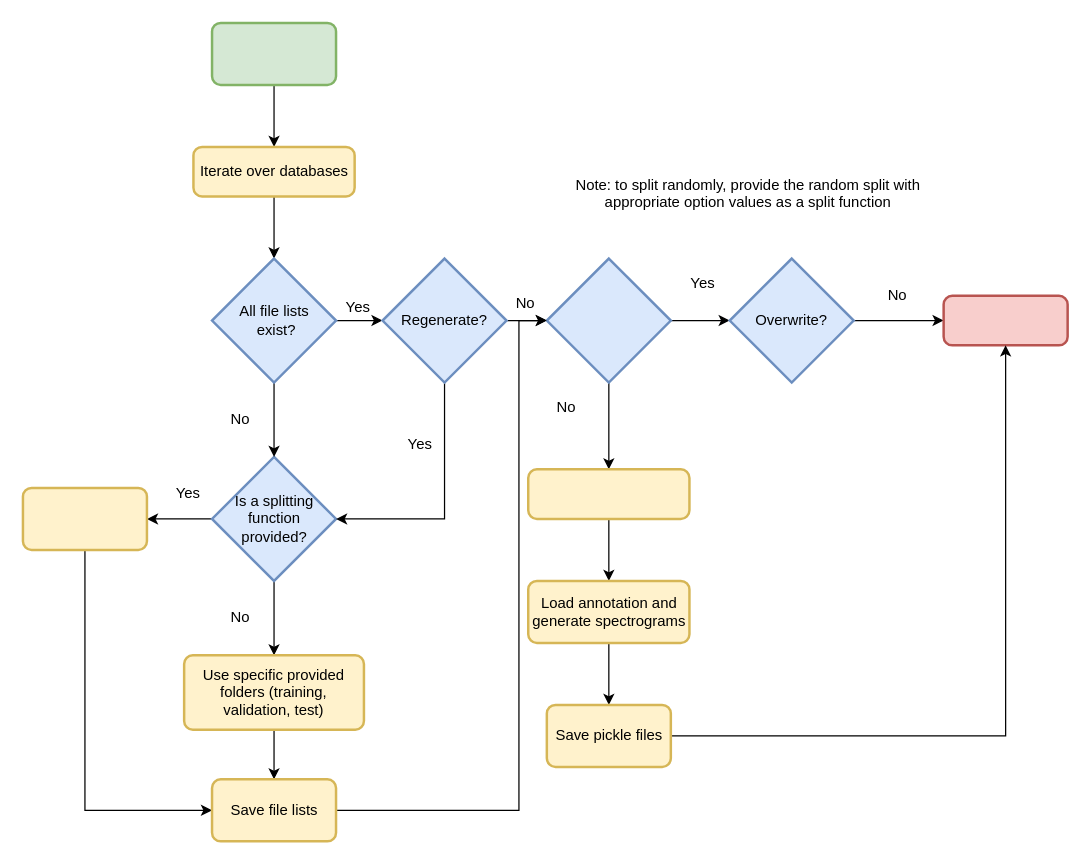
Image size: 1090x863. Some labels were removed from this diagram. Each missing label, with the box of its shape:
All pickle files and file lists exist?: (545, 257, 671, 383)
Check datasets: (210, 21, 337, 86)
Exit: (942, 294, 1068, 346)
Iterate over file sets: (526, 467, 690, 520)
Use it to split the data accordingly: (21, 486, 148, 551)
